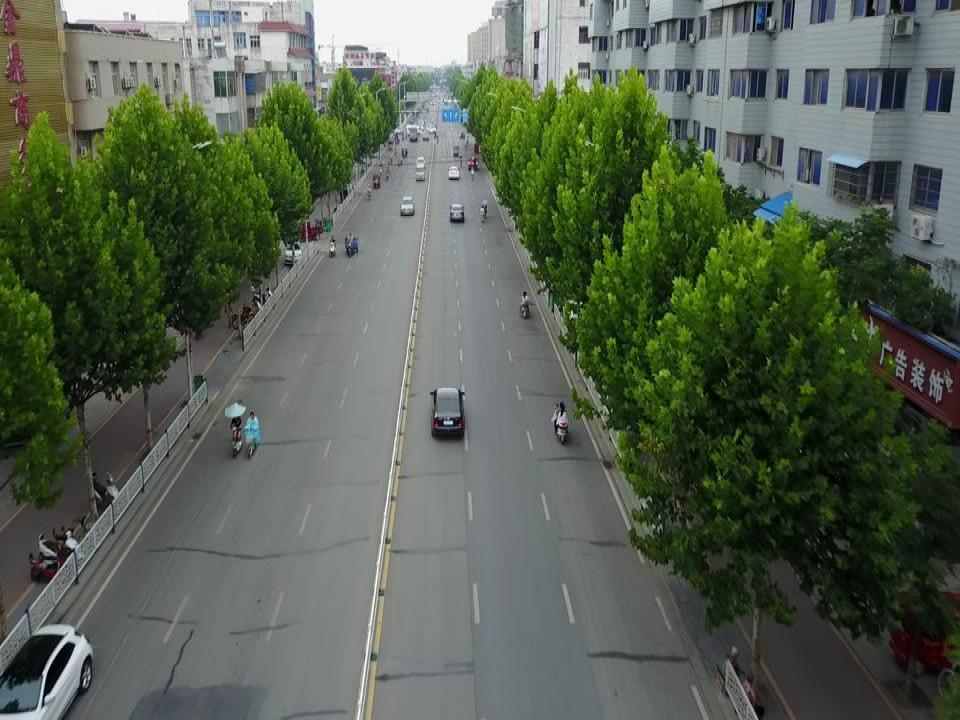car: (0, 626, 93, 718), (428, 387, 466, 436), (562, 299, 591, 336), (282, 239, 303, 264), (448, 204, 465, 221), (400, 197, 415, 215), (340, 178, 353, 198), (448, 167, 460, 180), (468, 157, 478, 171), (416, 156, 425, 168)
truck: (293, 219, 323, 240)
van: (415, 163, 425, 180), (409, 127, 417, 141)
